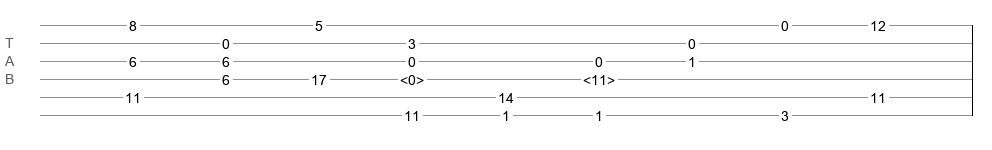0: (222, 36, 230, 46), (408, 54, 416, 64), (595, 54, 603, 64), (688, 36, 696, 46), (781, 18, 789, 28)
1: (502, 108, 510, 118), (595, 108, 603, 118), (688, 54, 696, 64)
11: (125, 90, 141, 100), (404, 108, 420, 118), (870, 90, 886, 100)
12: (870, 18, 886, 28)
14: (498, 90, 514, 100)
17: (311, 72, 327, 82)
3: (408, 36, 416, 46), (781, 108, 789, 118)
5: (315, 18, 323, 28)
6: (129, 54, 137, 64), (222, 54, 230, 64), (222, 72, 230, 82)
8: (129, 18, 137, 28)
harmonic: (583, 72, 615, 82), (400, 72, 424, 82)
